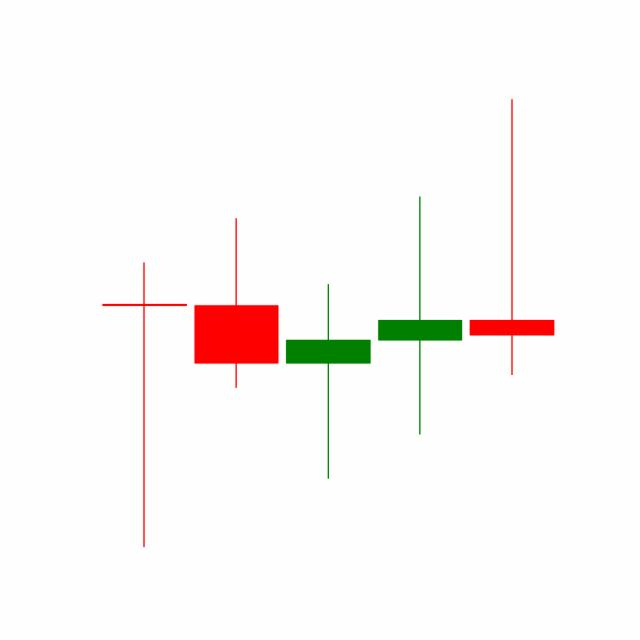Spinning Top: (373, 193, 467, 438)
